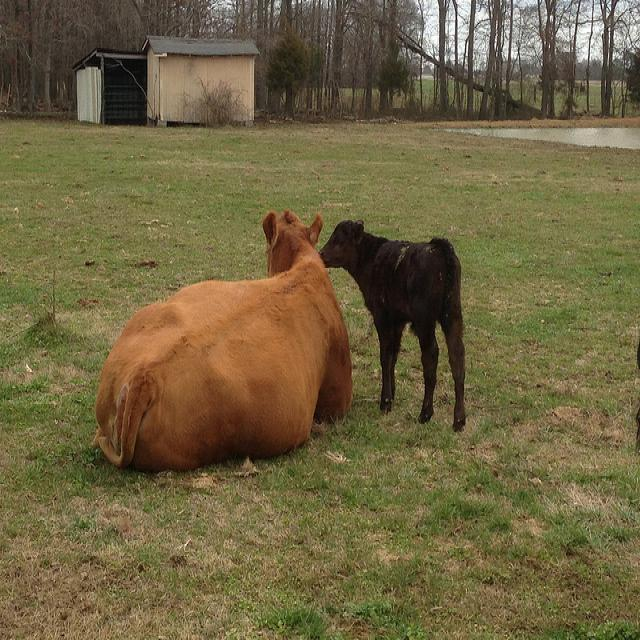cow: (86, 209, 351, 472), (317, 216, 465, 428)
